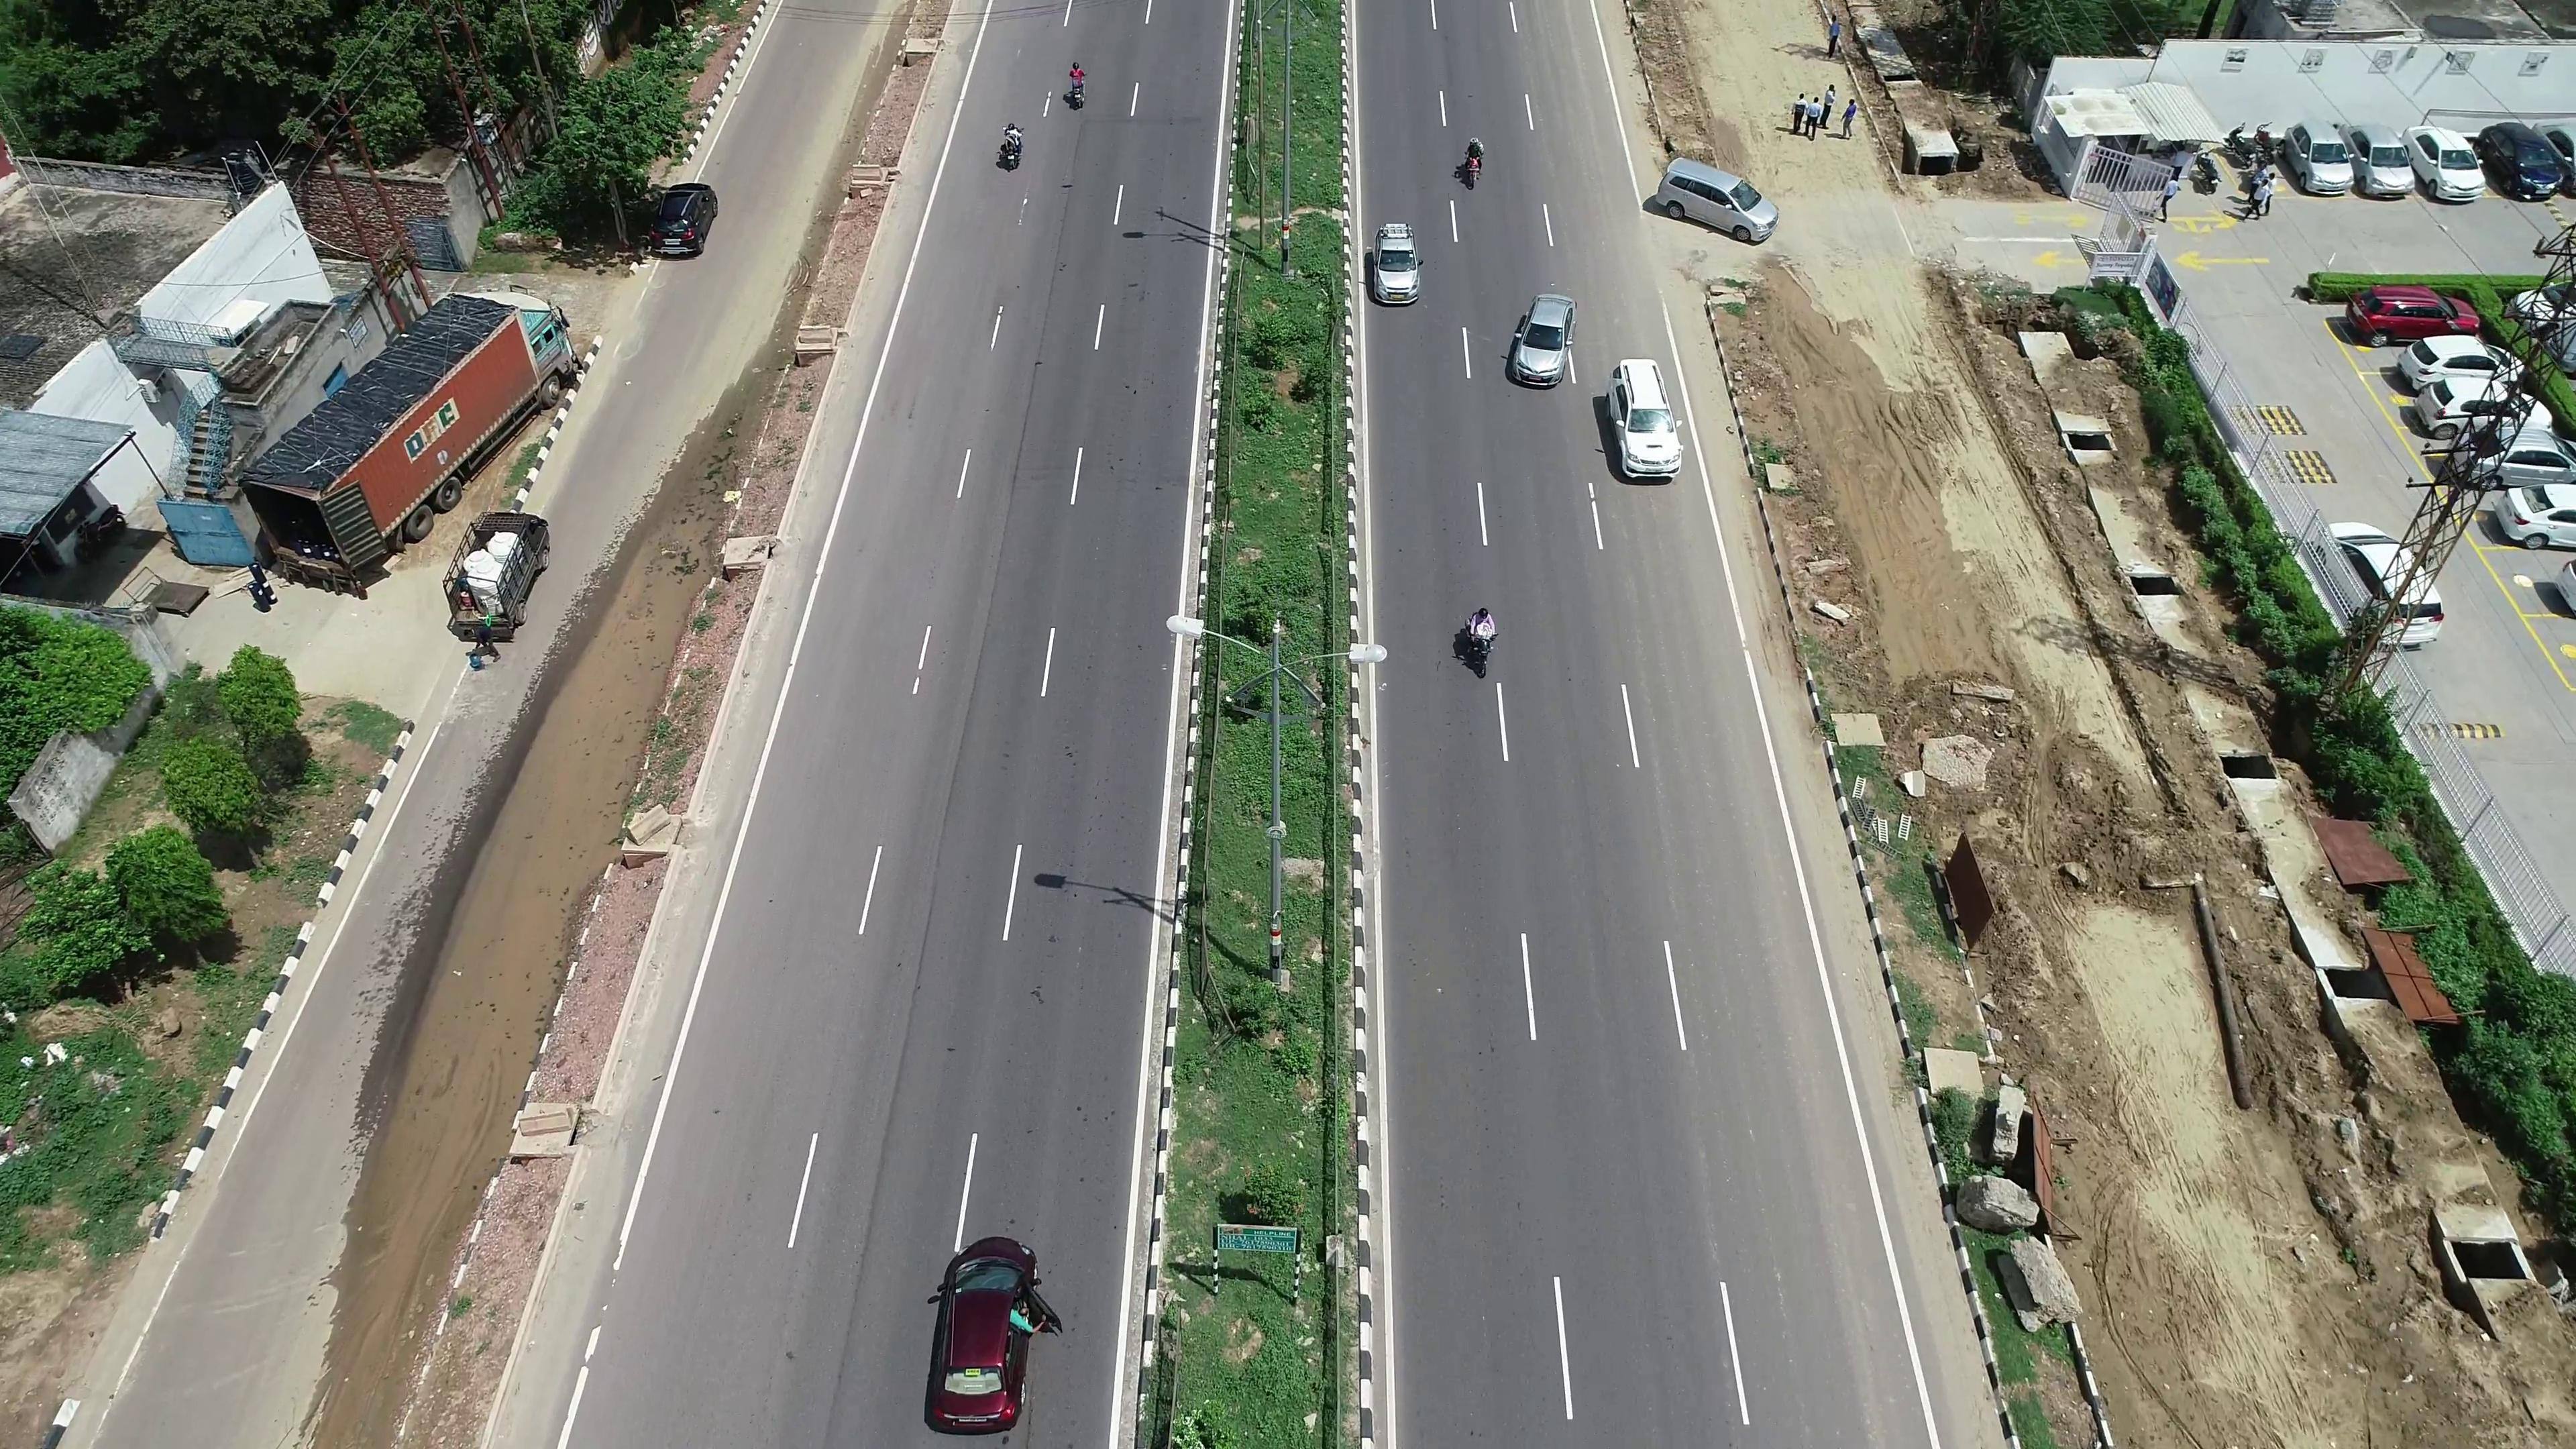Waterlogging: (405, 621, 655, 1131)
